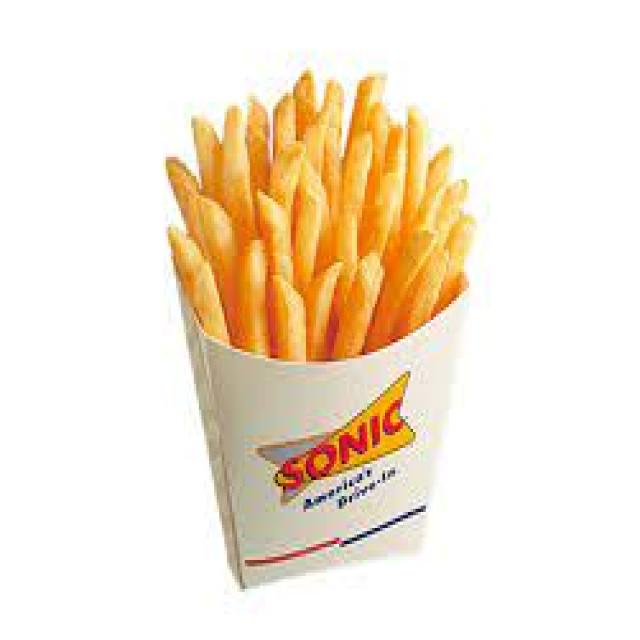감자튀김: (161, 70, 477, 592)
